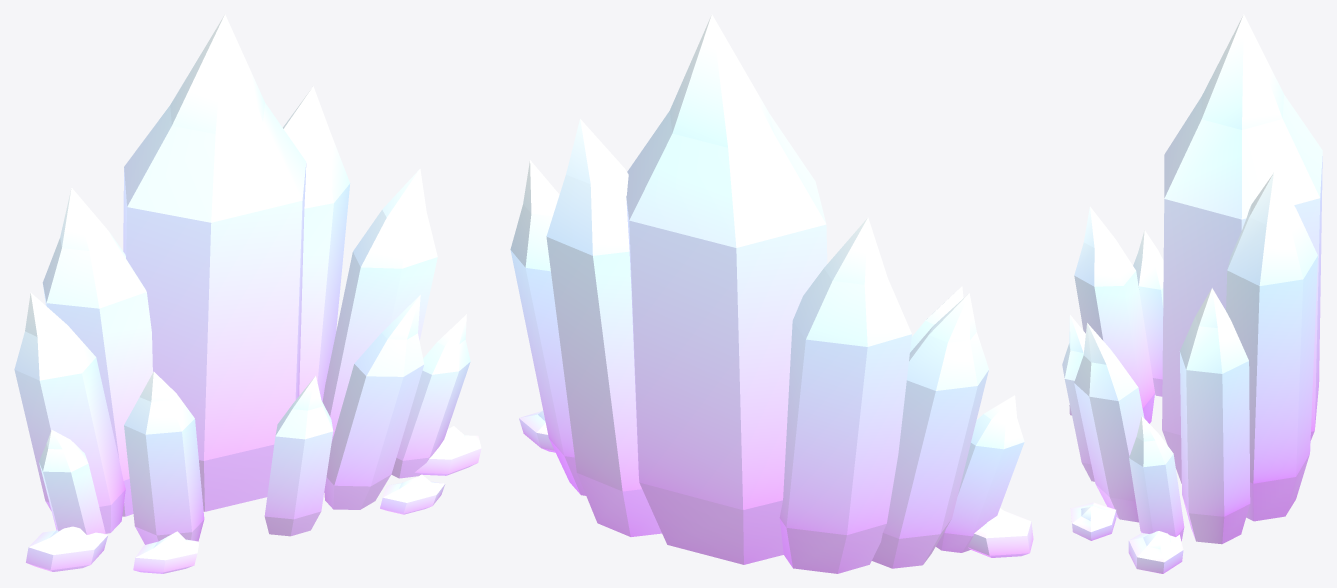
Rendered from crystal_cluster_large.glb.
3 views of the same model, side by side, from view 1: azimuth 30°, elevation 25°; view 2: azimuth 150°, elevation 25°; view 3: azimuth 270°, elevation 25° (orthographic). The views are drawn at different scales.
Visible parts, largest first — view 1: crystal_cluster_large; view 2: crystal_cluster_large; view 3: crystal_cluster_large.
Boxes of the visible parts, x1,y1,x2,y2 form: crystal_cluster_large: (14, 14, 481, 573); crystal_cluster_large: (510, 14, 1033, 573); crystal_cluster_large: (1062, 14, 1322, 573).
Bounding box in the file's own units: 3.66 × 3.55 × 1.81.
